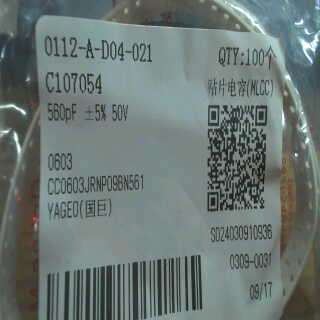560pF: (46, 98, 81, 127)
